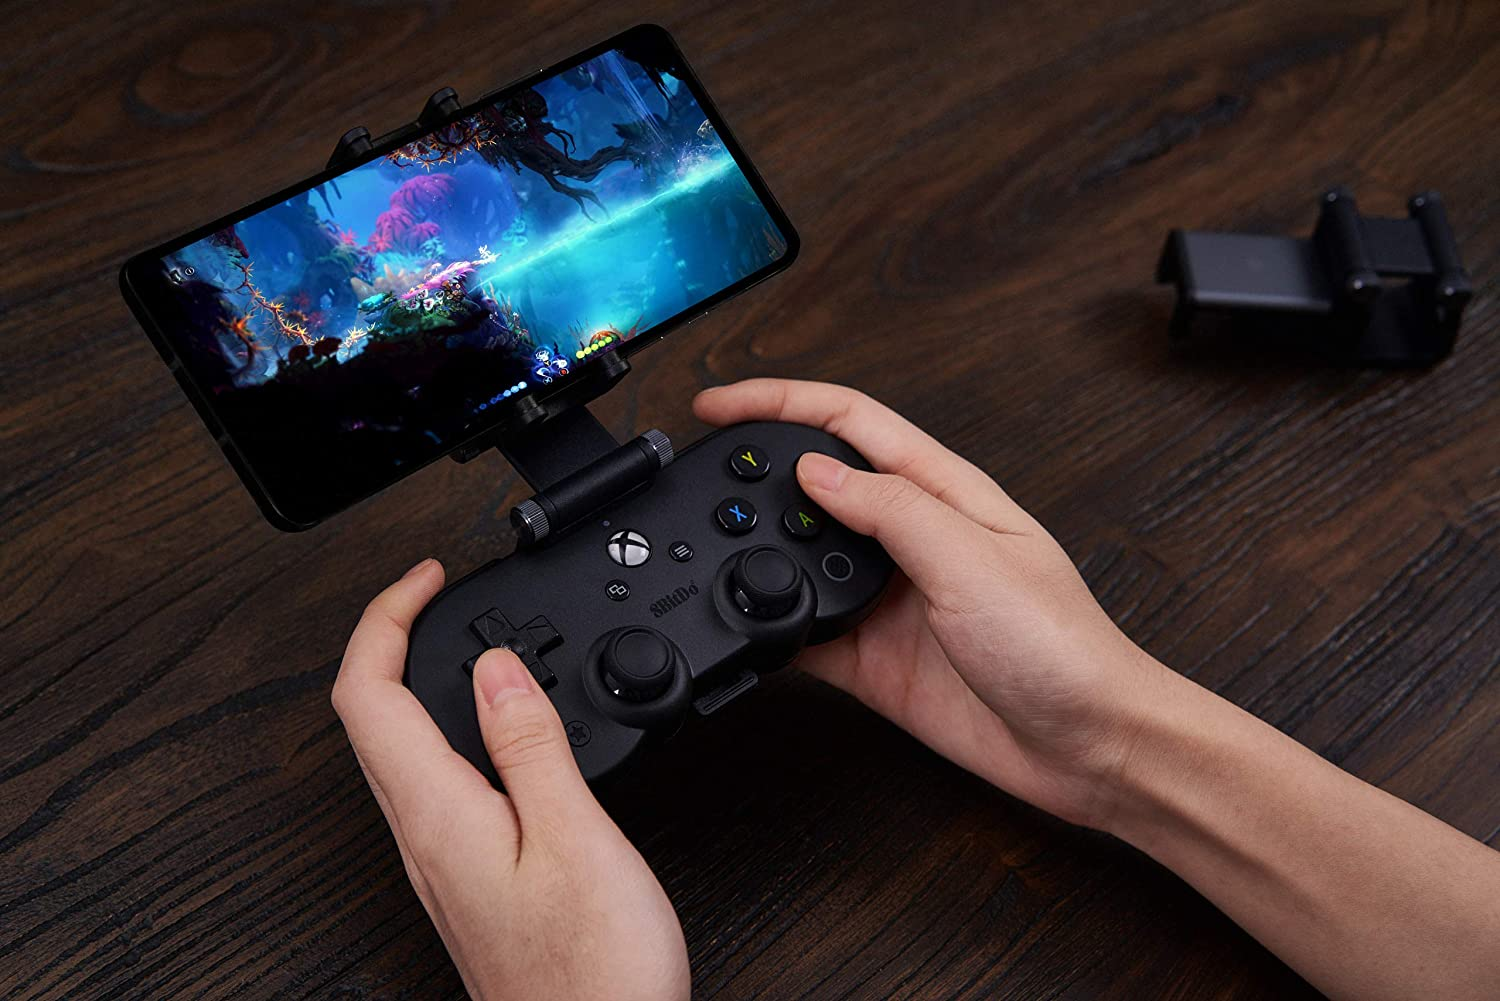controller: (404, 421, 895, 799)
